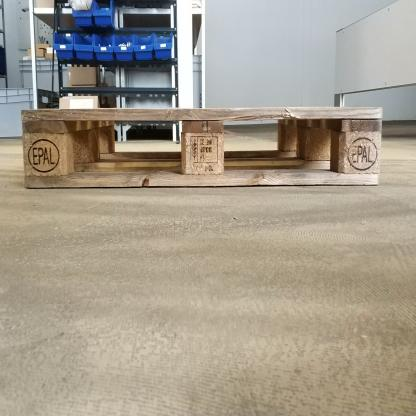BoxFace: (19, 103, 386, 192)
